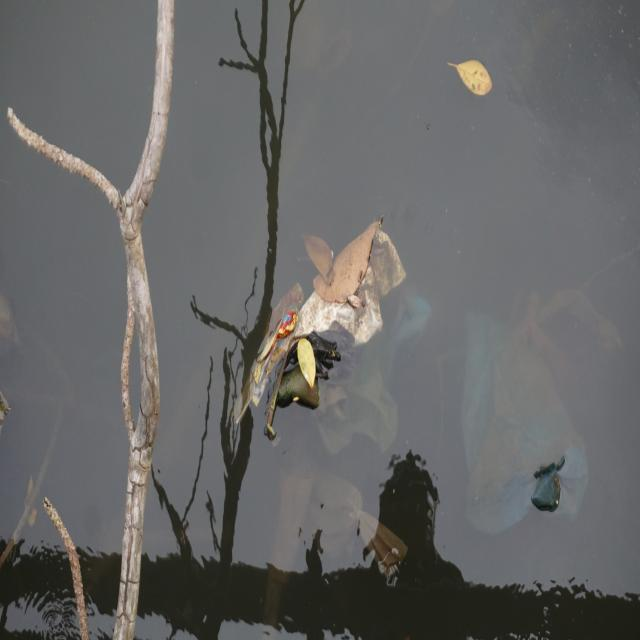Bungkus Makanan: (249, 291, 300, 408)
Kantong Plastik: (456, 304, 594, 545)
